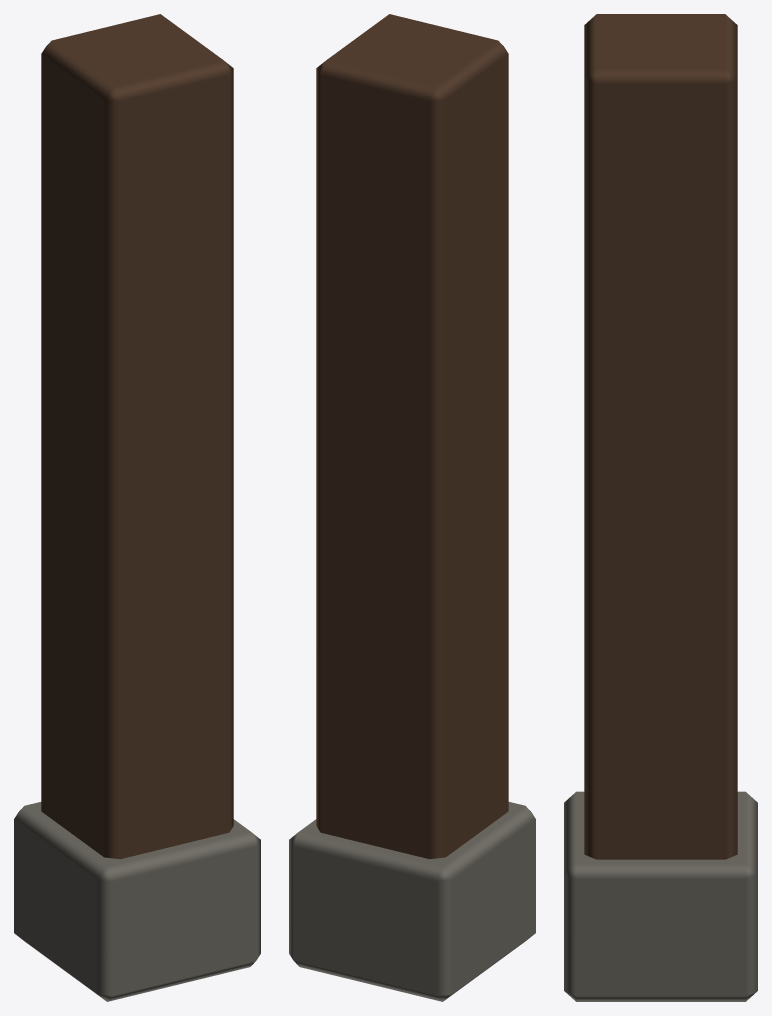
File: village-post-l.d442811a.glb
3 views of the same model, side by side, from view 1: azimuth 30°, elevation 25°; view 2: azimuth 150°, elevation 25°; view 3: azimuth 270°, elevation 25° (orthographic). The views are drawn at different scales.
Parts seen in each view (by area): view 1: body; view 2: body; view 3: body.
Boxes of the visible parts, box(x1,y1,x2,y2) form: body: box(14, 14, 260, 1001); body: box(289, 14, 535, 1001); body: box(564, 14, 757, 1001).
Bounding box in the file's own units: 0.38 × 2 × 0.38.
